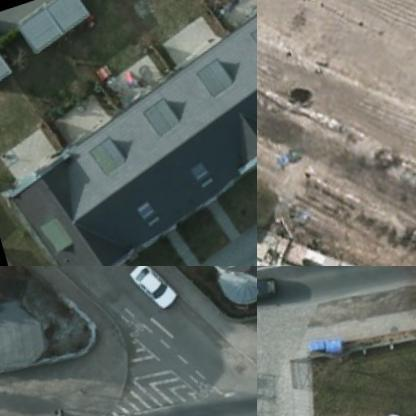car: (128, 266, 177, 324), (0, 18, 7, 72)
